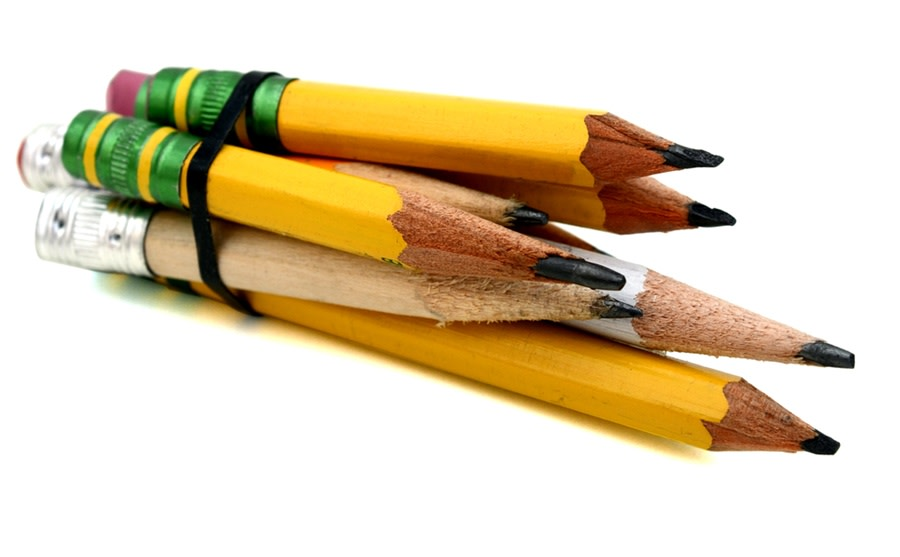pencil: (21, 26, 873, 517)
